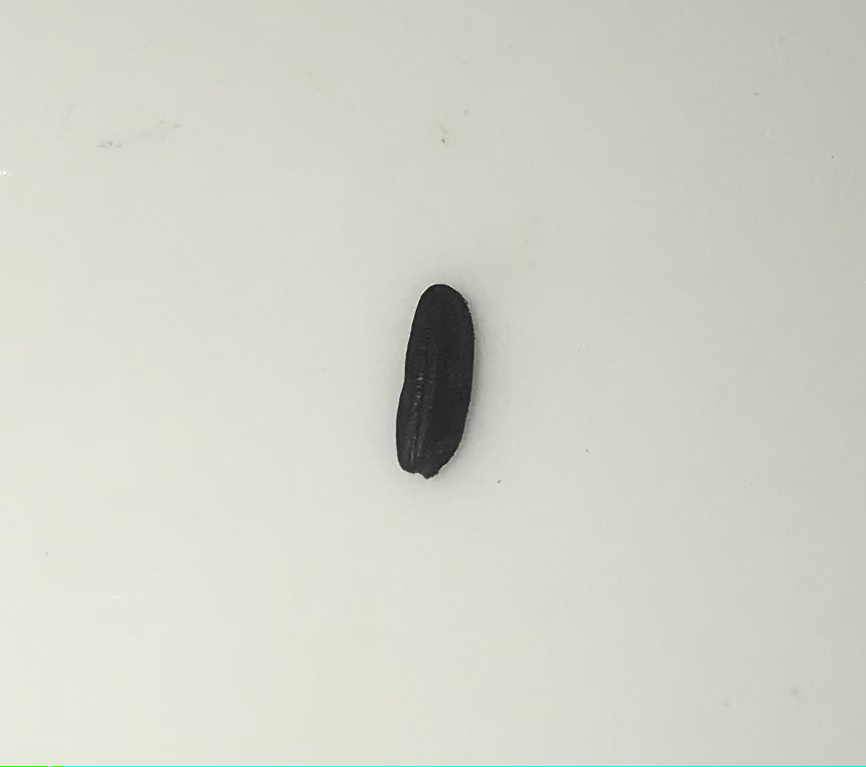Gao Nep Cam: (388, 271, 483, 485)
